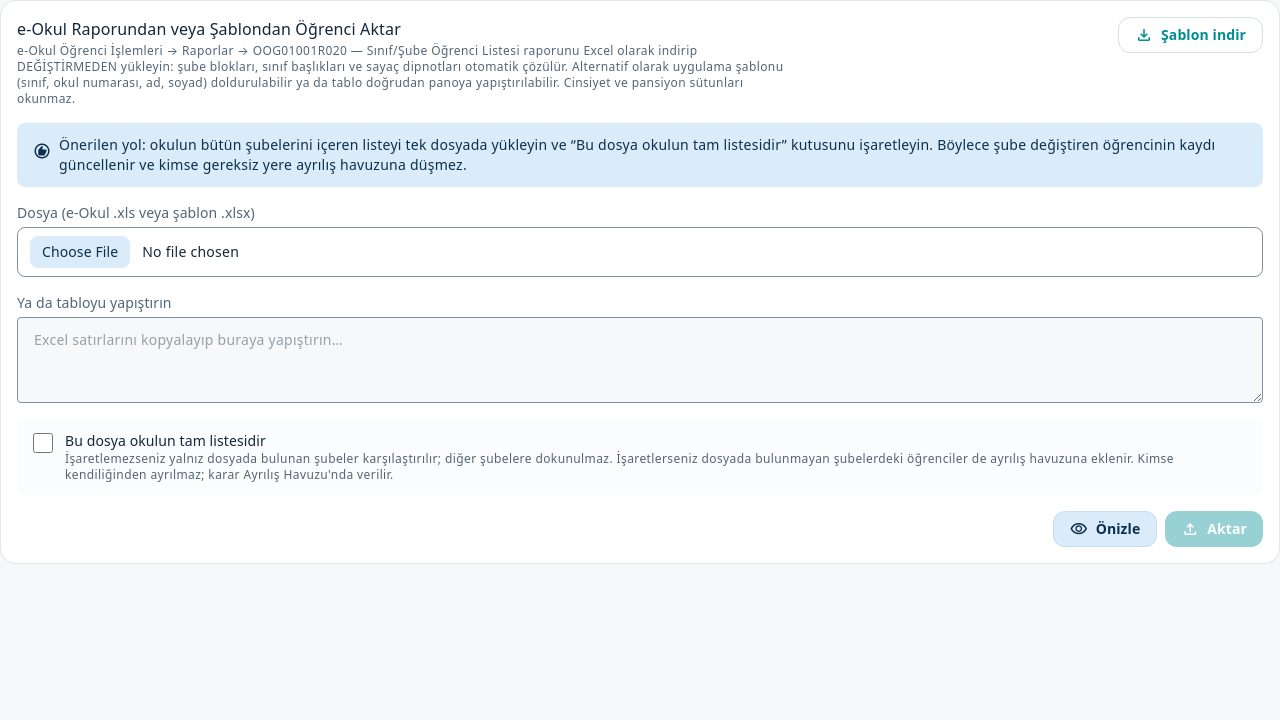
Scenario: AktarimPaneli — öğrenci mutabakatı ve ayrılış havuzu › önizleme havuz etkisini söyler: şube tablosu, eklenecekler ve çıkacaklar
Type "liste" into the text box labelled "Ya da tabloyu yapıştırın" at (640, 360), box [17,317,1263,403]
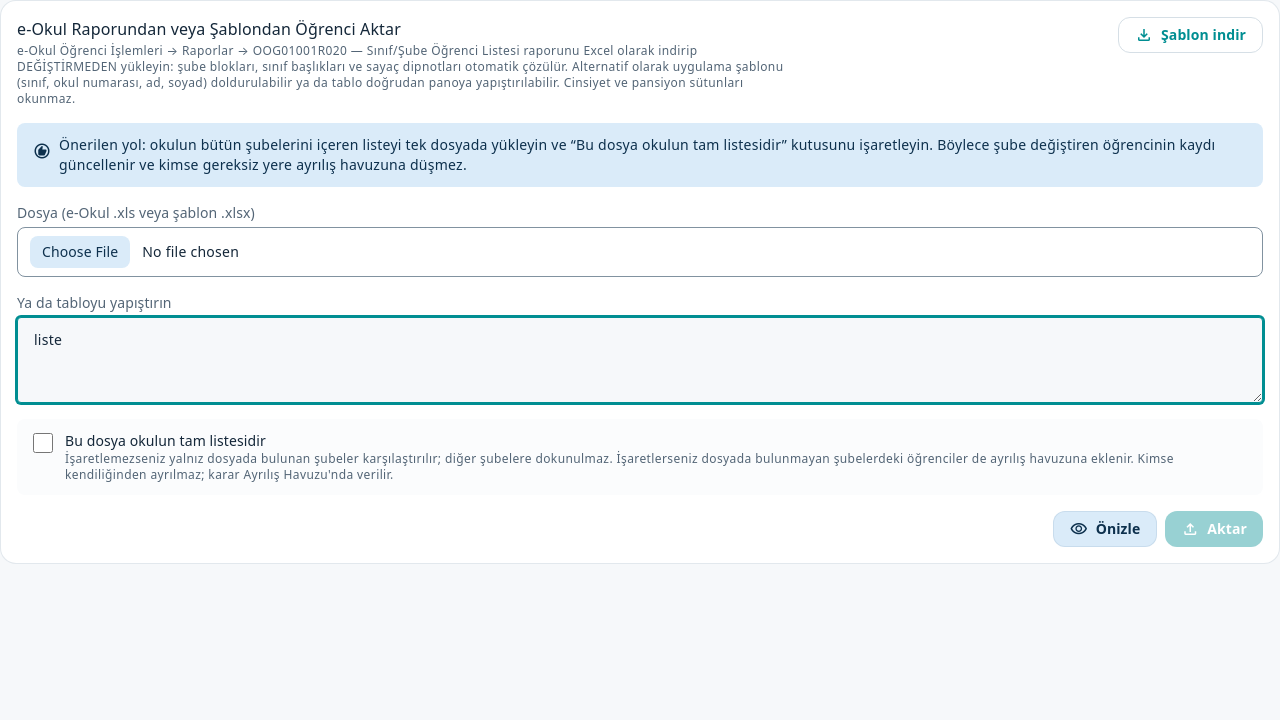
Click the button "Önizle" at (1105, 529), box [1053,511,1157,547]
(page scrolled)
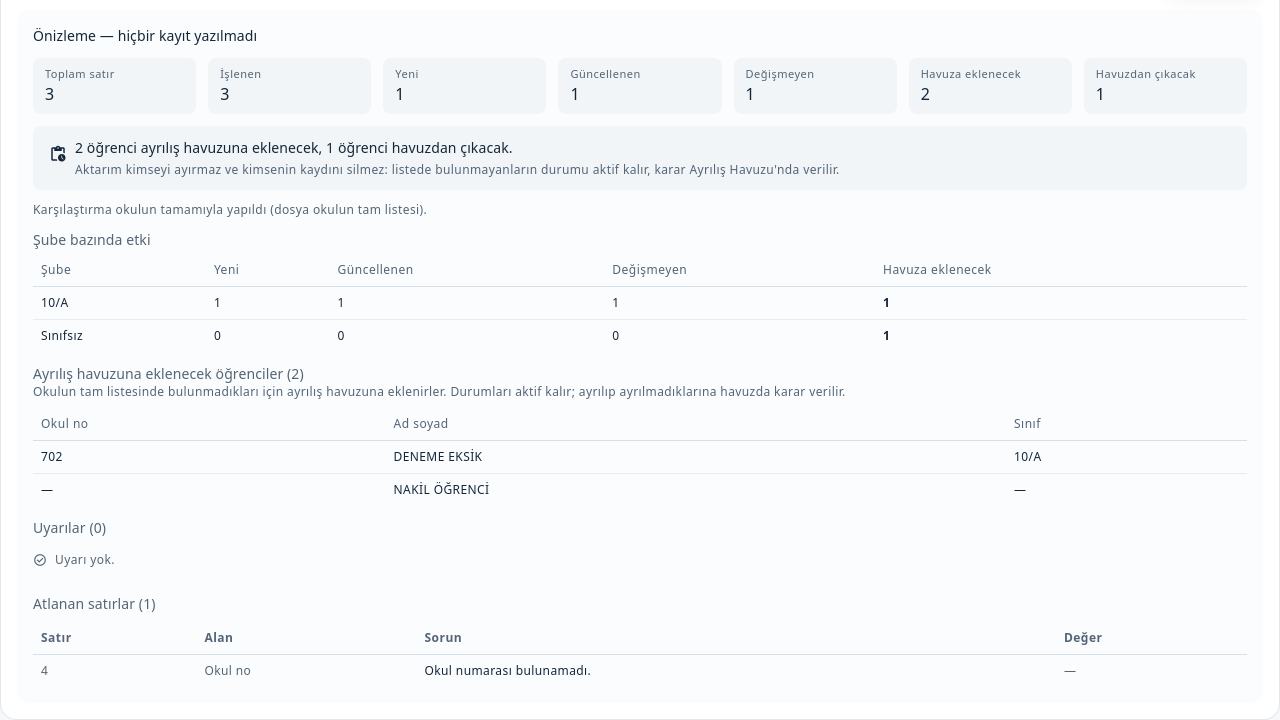
expect the text "2 öğrenci ayrılış havuzuna eklenecek, 1 öğrenci havuzdan çıkacak." is shown: met, box [75,138,513,157]
expect the text "Aktarım kimseyi ayırmaz ve kimsenin kaydını silmez" is shown: met, box [75,161,840,178]
expect the column heading "Havuza eklenecek" is shown: met, box [875,254,1247,286]
